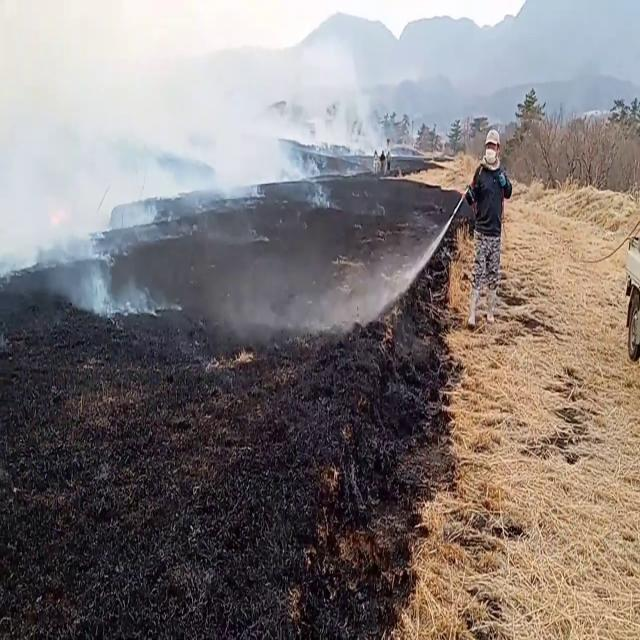Smoke: (1, 0, 372, 254)
